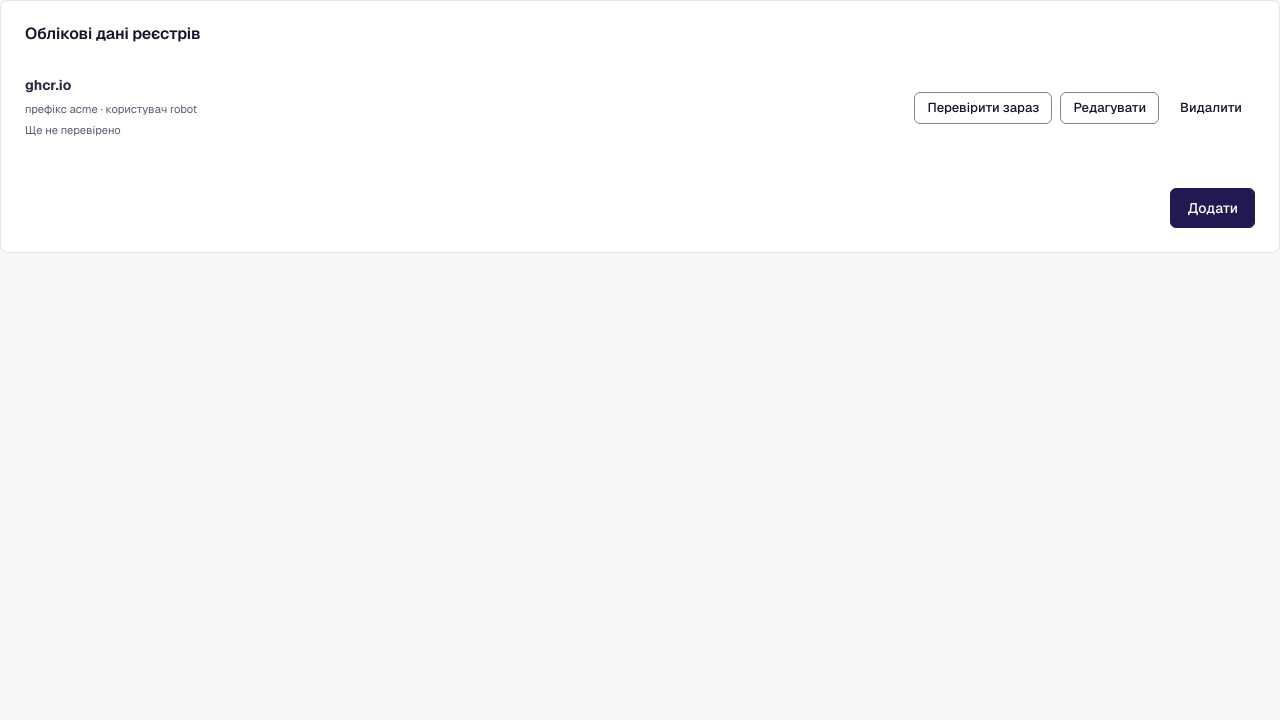
Test: Реєстри образів заходу › asks for the token again when the host changes
expect the text "ghcr.io" is shown: met, box x1=25 y1=76 x2=71 y2=94
Click the button "Редагувати": (1110, 108) x1=1060 y1=92 x2=1159 y2=124
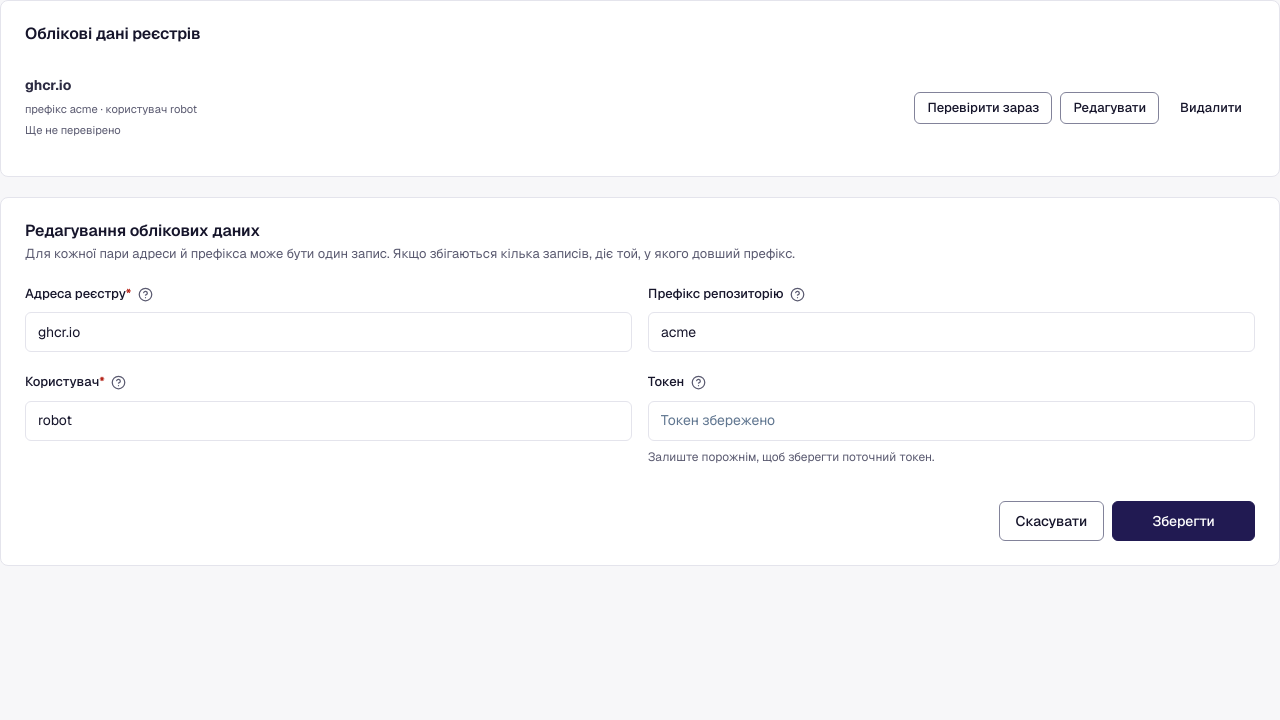
In the field labelled "Адреса реєстру*": (328, 332) x1=25 y1=312 x2=632 y2=352, type "quay.io"
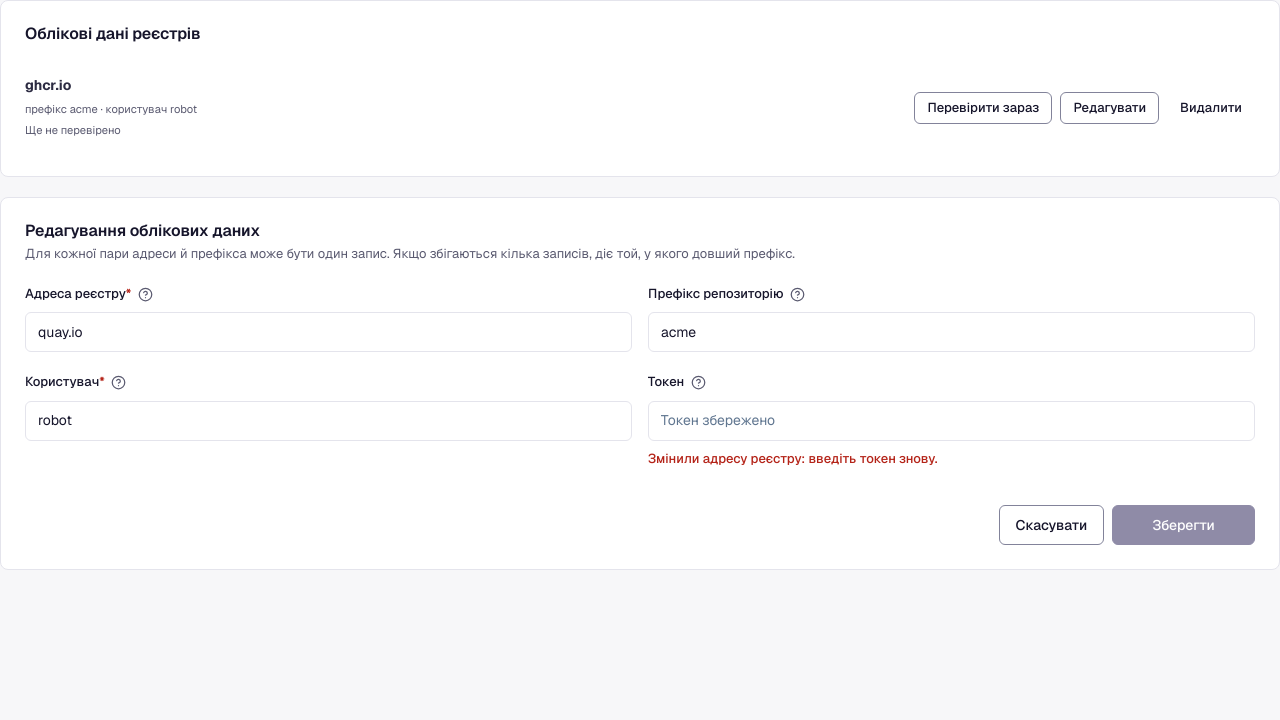
expect the text "Змінили адресу реєстру: введіть токен знову." is shown: met, box x1=648 y1=450 x2=938 y2=467
expect the button "Зберегти" is disabled: met, box x1=1112 y1=505 x2=1255 y2=545
